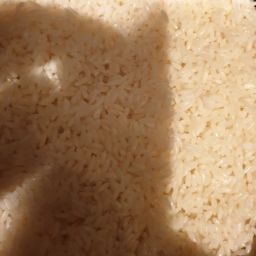Rice: (7, 5, 248, 256), (113, 78, 219, 180), (189, 22, 244, 124), (193, 153, 247, 200)
